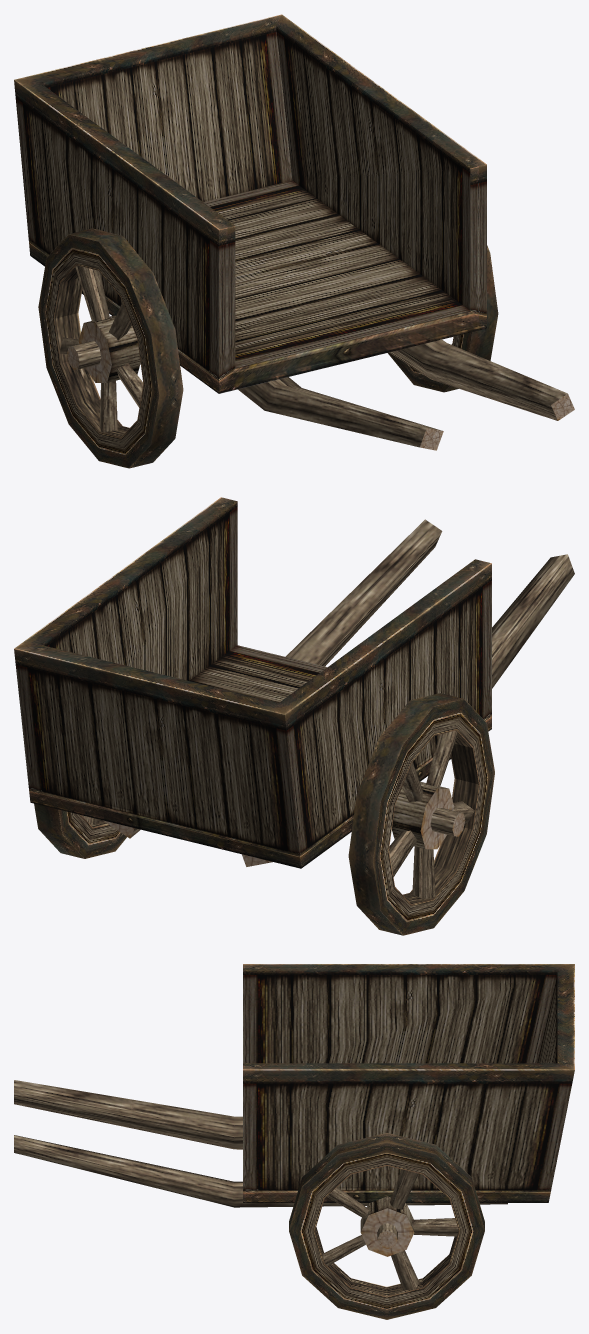
File: wagon01.FBX
3 renders of one model, top to bottom at view 1: azimuth 30°, elevation 25°; view 2: azimuth 150°, elevation 25°; view 3: azimuth 270°, elevation 25°, orthographic. The views are drawn at different scales.
Parts seen in each view (by area): view 1: wagon01; view 2: wagon01; view 3: wagon01.
Part boxes in pixels (<box>): wagon01: <box>14,14,574,468</box>; wagon01: <box>14,497,574,935</box>; wagon01: <box>14,964,574,1319</box>.
Bounding box in the file's own units: 223 × 160 × 346.
